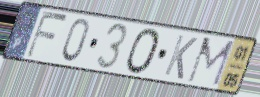0: (61, 18, 91, 64)
3: (94, 22, 128, 72)
F: (24, 9, 70, 61)
K: (161, 33, 199, 82)
M: (184, 36, 237, 88)
O: (125, 27, 162, 76)
